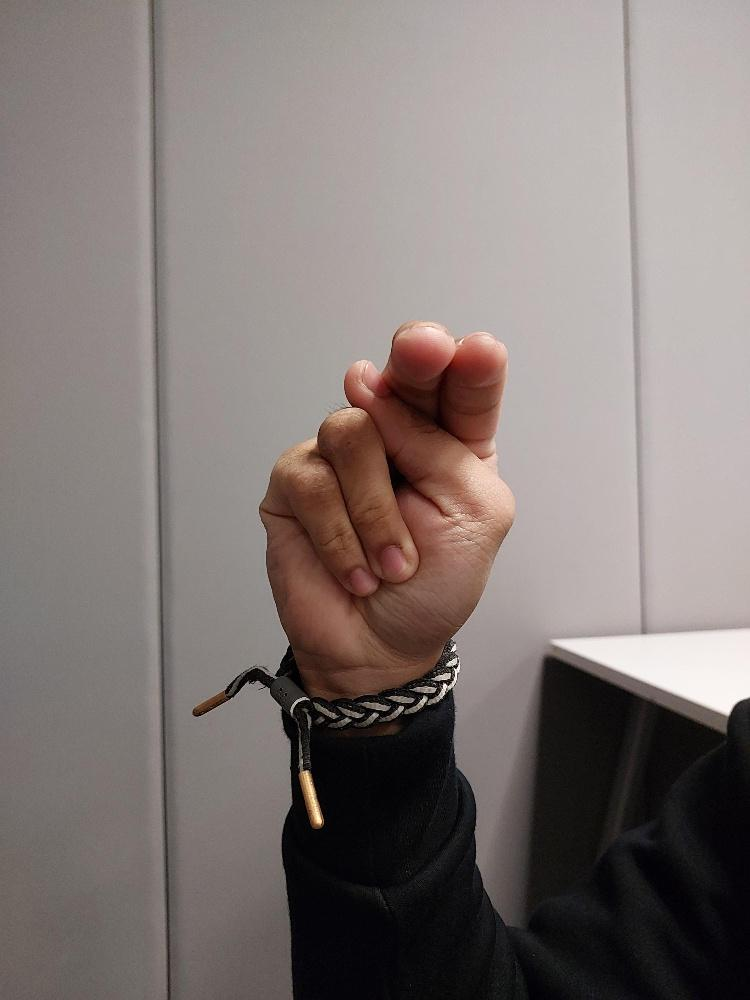n: (257, 317, 517, 670)
